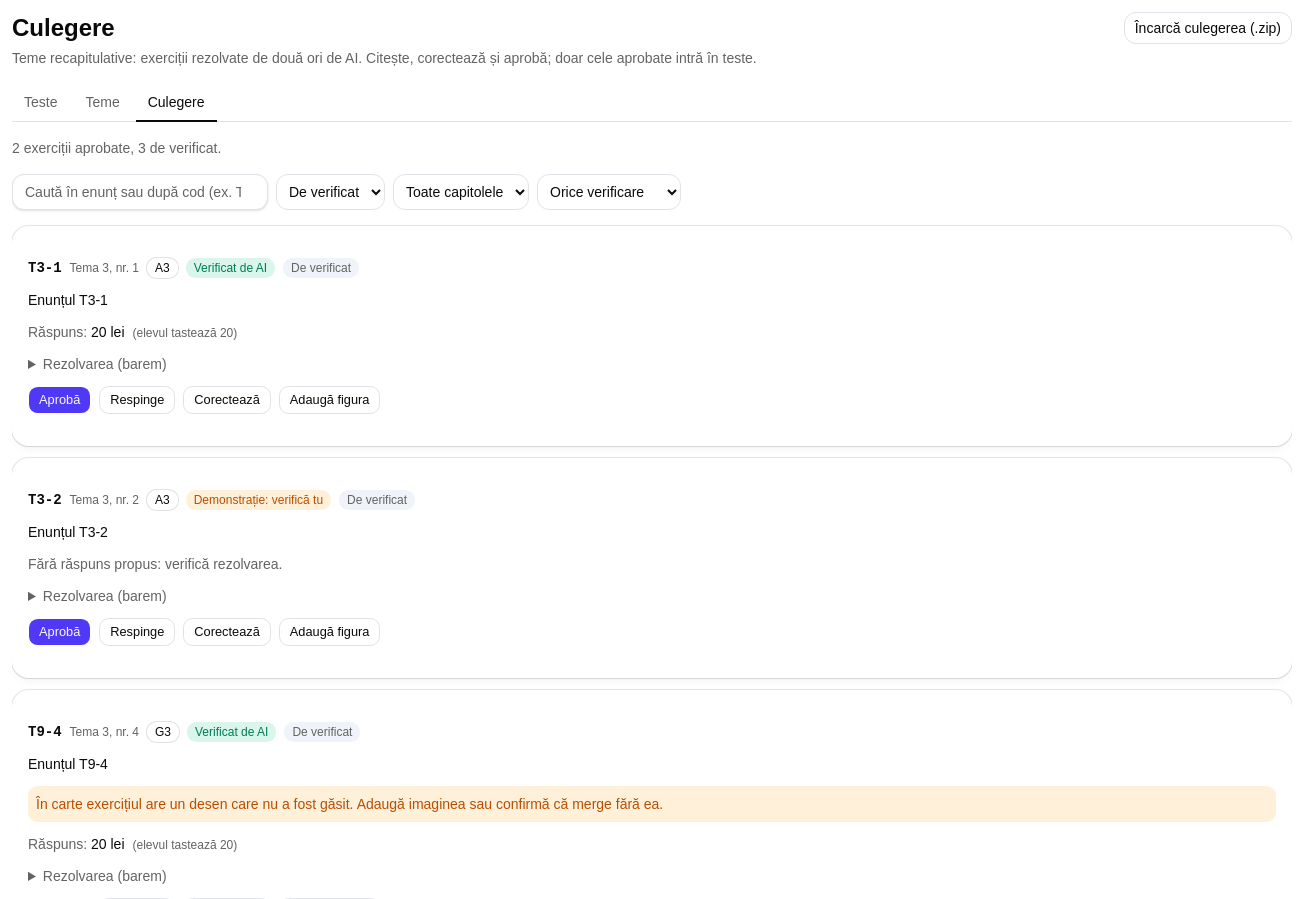
Test case: AdminRecapPage › keeps an approved exercise whose drawing is missing out of a new test
Select "Aprobate" in the dropdown named "Stare" at [330, 192], box left=276, top=174, right=385, bottom=210
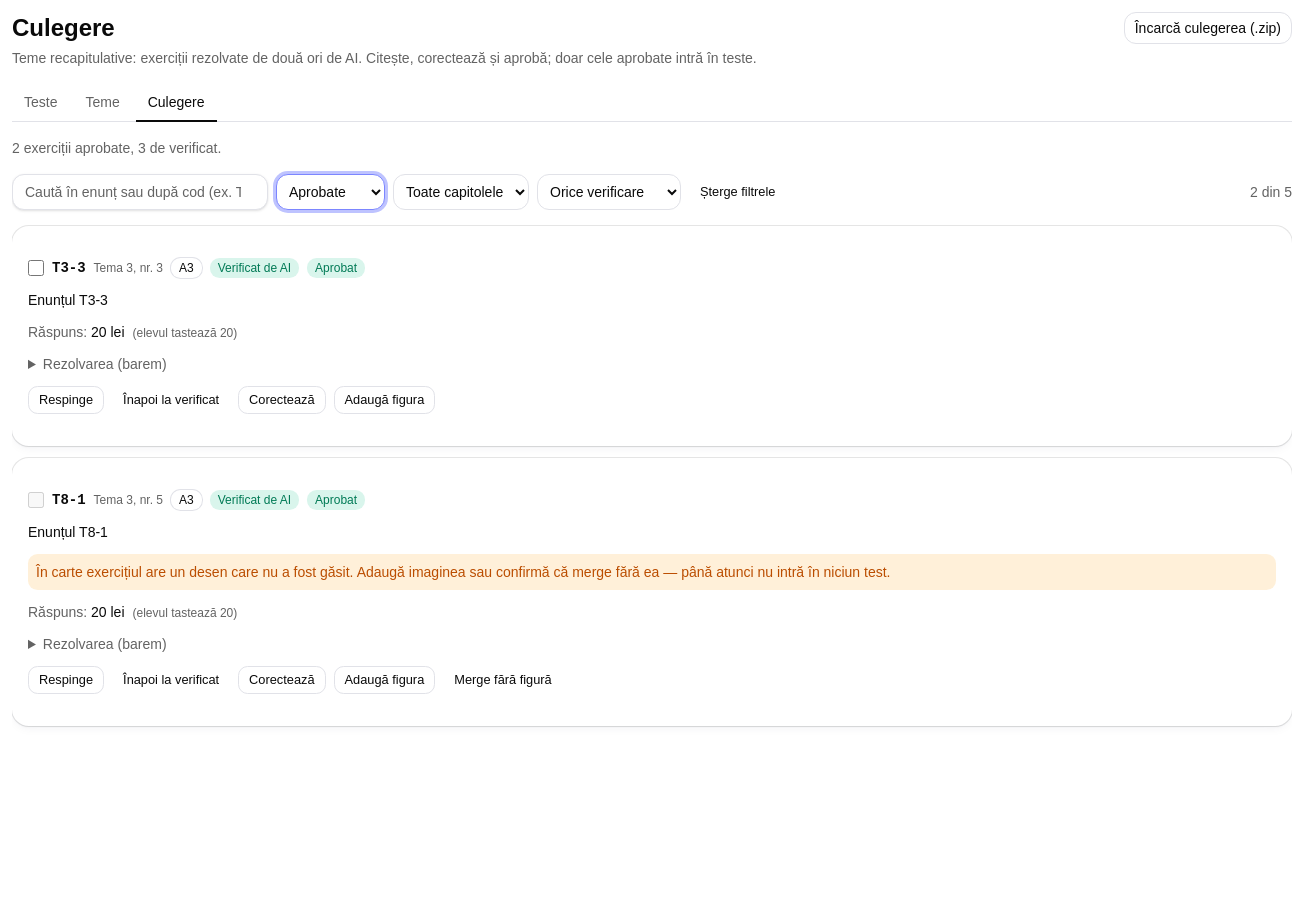
Check: the checkbox named "Alege T8-1 pentru test" is disabled, box left=28, top=492, right=44, bottom=508
Check: the text "nu intră în niciun test" is shown, box left=659, top=564, right=890, bottom=580
Check: the checkbox named "Alege T3-3 pentru test" is enabled, box left=28, top=260, right=44, bottom=276
